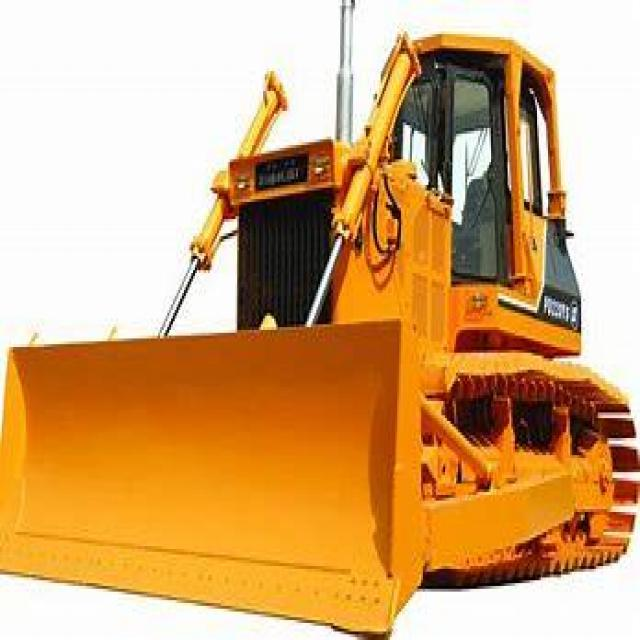Bulldozer: (7, 11, 638, 623)
